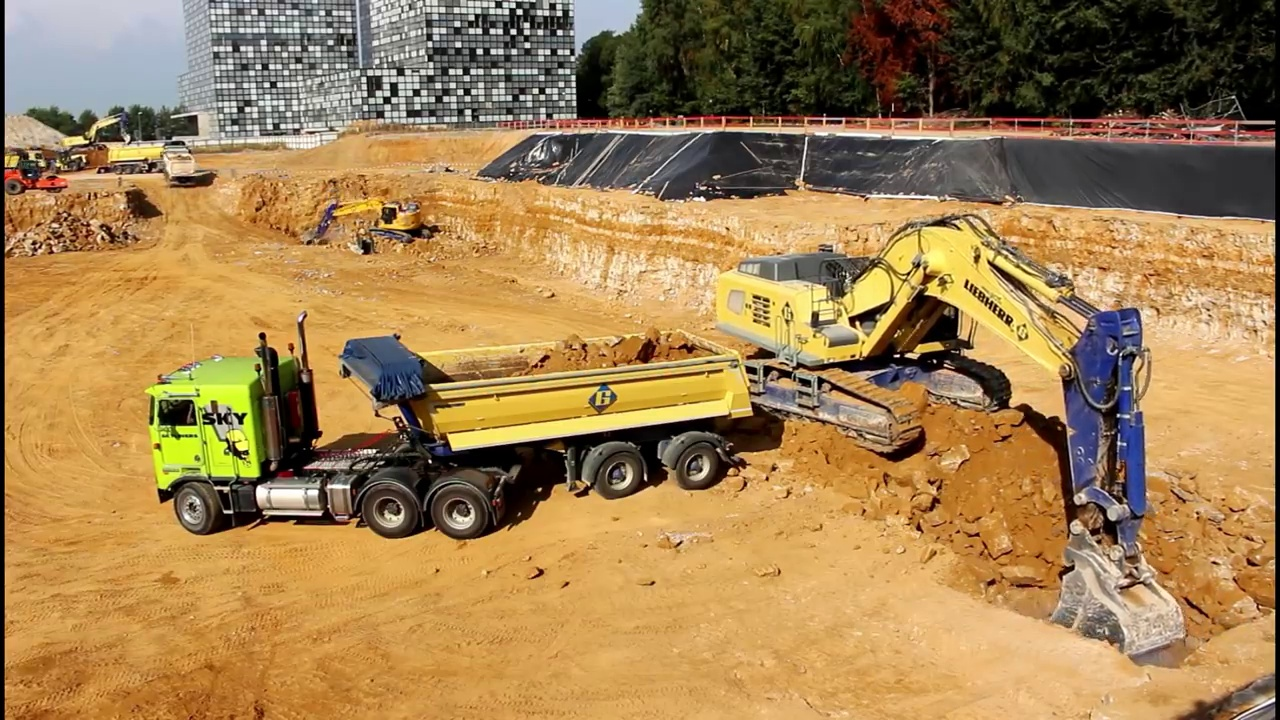compactor: (6, 158, 70, 195)
excavator: (691, 209, 1195, 672), (311, 193, 437, 248), (54, 112, 133, 154)
truck: (140, 306, 760, 544), (105, 136, 191, 174), (157, 140, 204, 192), (1, 143, 52, 175)
